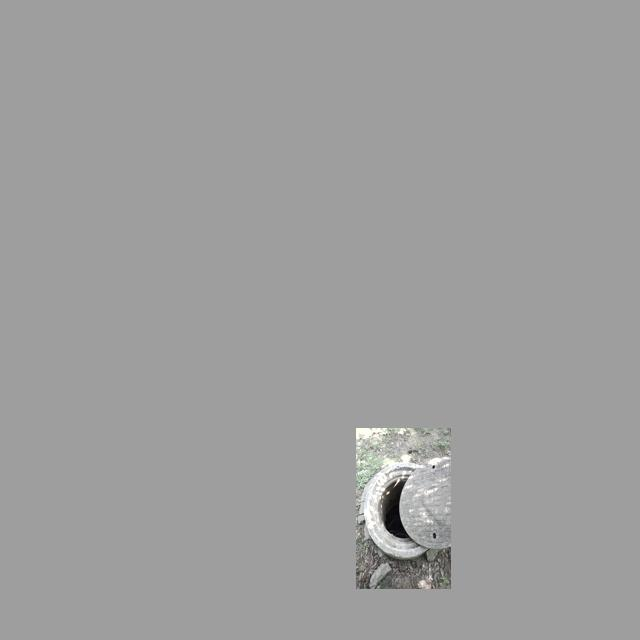uncovered: (364, 456, 450, 558)
